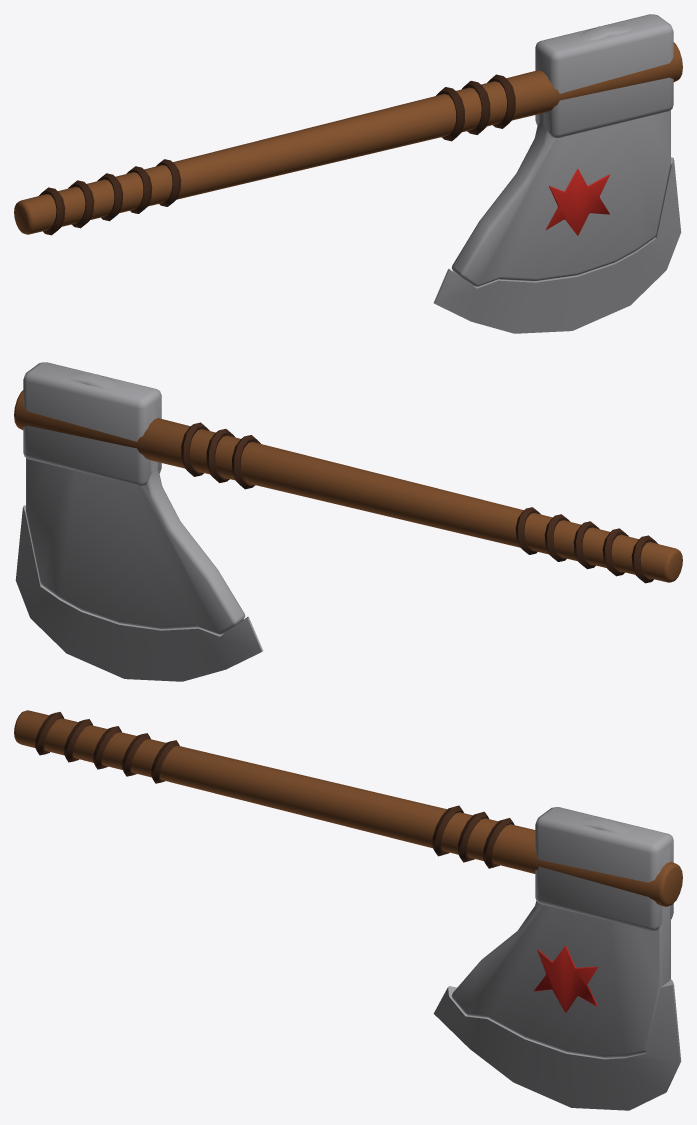
Rendered from axe.glb.
3 views of the same model, one above another, from view 1: azimuth 30°, elevation 25°; view 2: azimuth 150°, elevation 25°; view 3: azimuth 330°, elevation 25° (orthographic).
Visible parts, largest first — view 1: Head, Handle; view 2: Head, Handle; view 3: Head, Handle.
Boxes of the visible parts, box(x1,y1,x2,y2) form: Head: box(433, 14, 681, 333); Handle: box(14, 42, 682, 235); Head: box(15, 362, 263, 681); Handle: box(14, 390, 682, 583); Head: box(433, 807, 681, 1110); Handle: box(14, 710, 682, 906).
Bounding box in the file's own units: 0.91 × 0.387 × 0.066.
